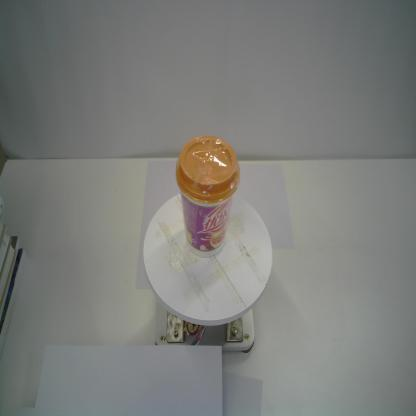Instant Drink: (175, 135, 241, 258)
